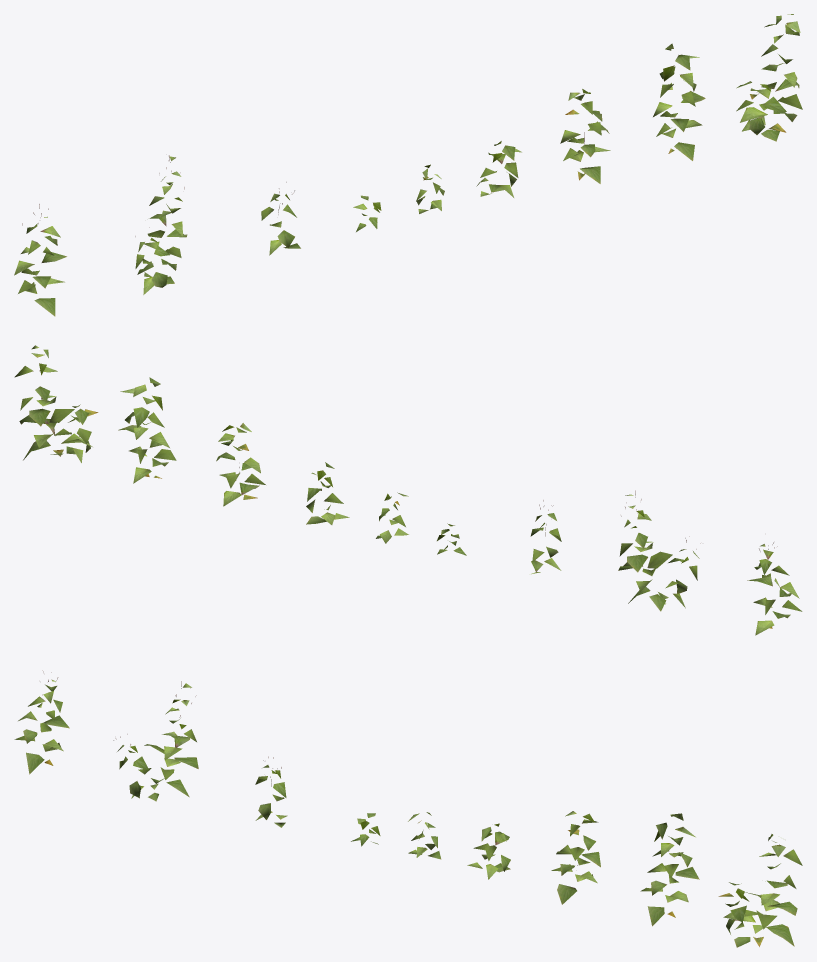
Rendered from shrub_01.glb.
The picture shows the model from 3 angles, top to bottom: view 1: azimuth 30°, elevation 25°; view 2: azimuth 150°, elevation 25°; view 3: azimuth 330°, elevation 25°; orthographic projection. The views are drawn at different scales.
Visible parts, largest first — view 1: shrub_01_a; view 2: shrub_01_a; view 3: shrub_01_a.
Boxes of the visible parts, box(x1,y1,x2,y2) form: shrub_01_a: box(14, 14, 802, 316); shrub_01_a: box(14, 345, 802, 635); shrub_01_a: box(14, 670, 802, 947).
Bounding box in the file's own units: 2.59 × 0.3801 × 0.2055.
Materials: 1 (1 with a texture image).
